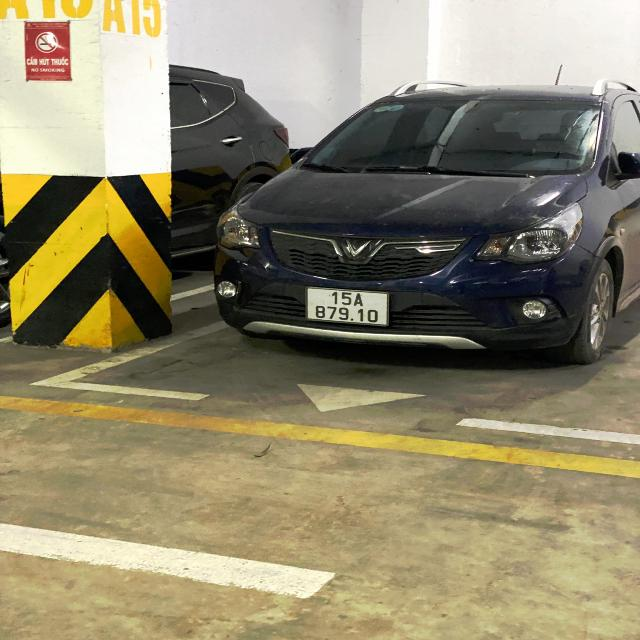license_plate: (302, 286, 393, 330)
